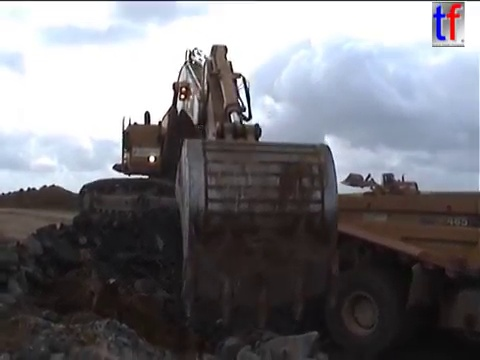excavator: (76, 41, 345, 335)
truck: (271, 188, 480, 360)
wheel loader: (339, 170, 423, 207)
